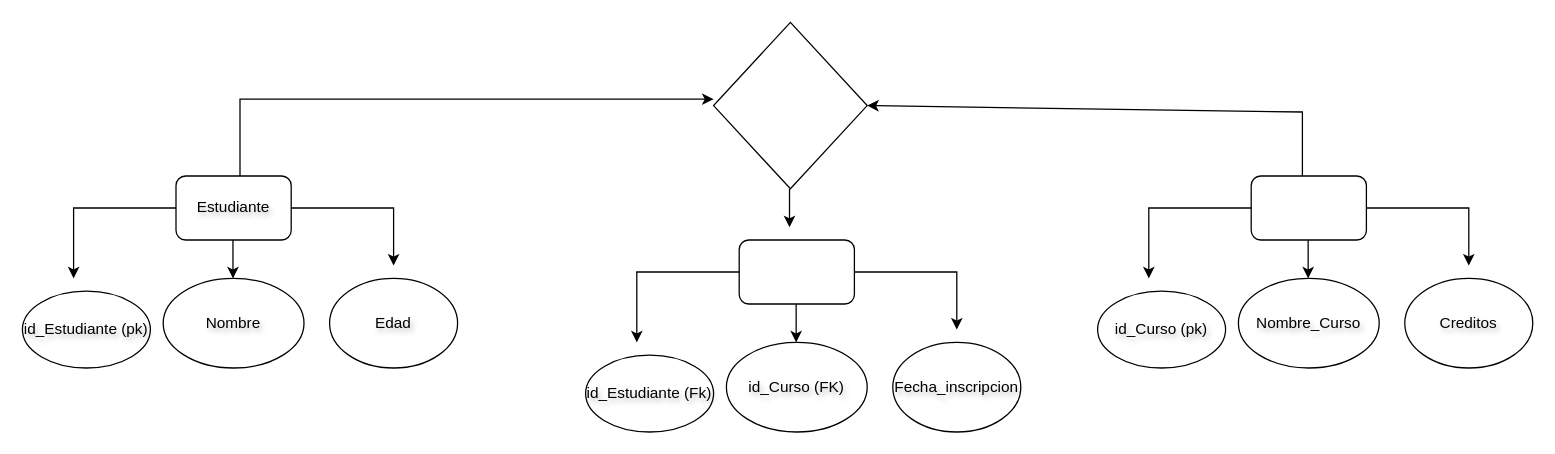
Some shapes in this 1555 by 454 pixel diagram are drawn without their labels. Here are the shapes that lost their labels. From the top down, the centre of each, then its label:
[789,105]: Inscribirse
[1308,207]: Curso
[796,271]: Inscripcion
